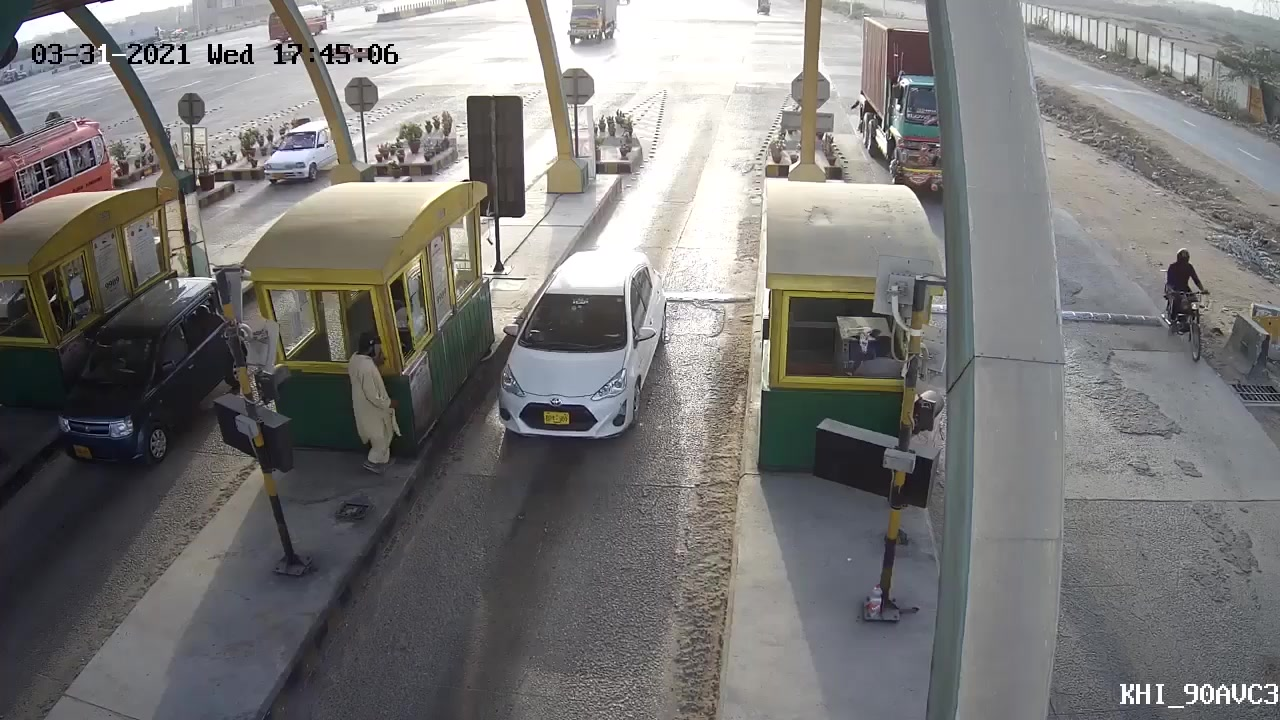F1: (478, 248, 677, 447)
